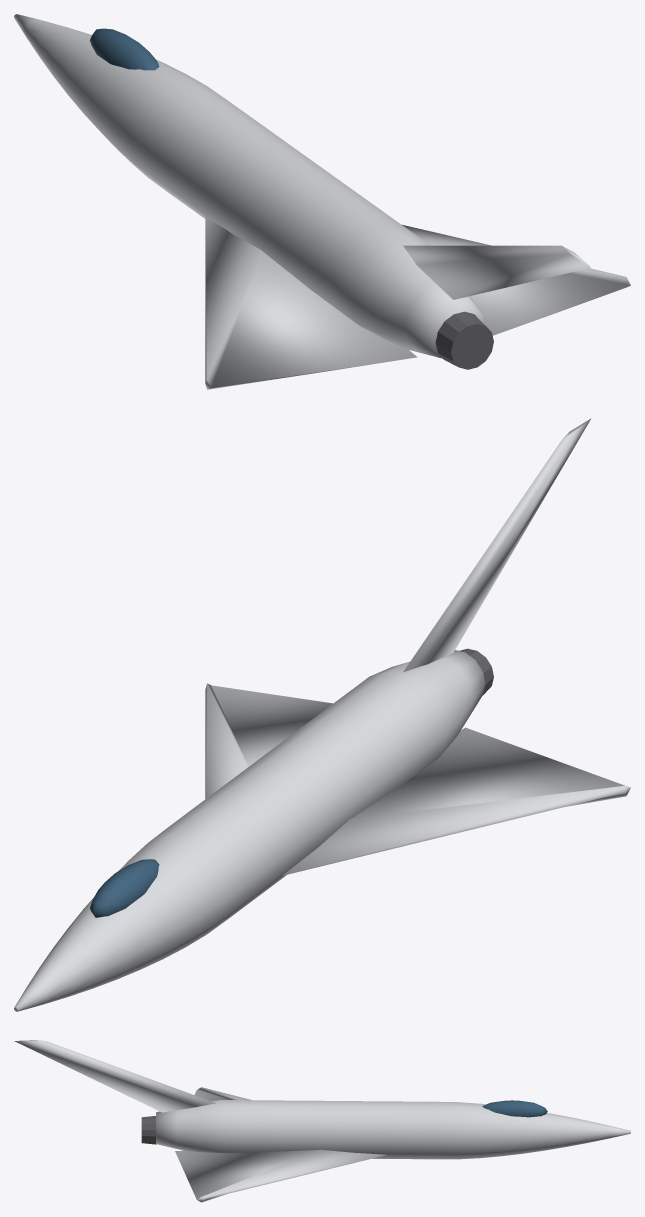
The model's file is mirage3.fbx.
3 views of the same model, one above another, from view 1: azimuth 30°, elevation 25°; view 2: azimuth 150°, elevation 25°; view 3: azimuth 270°, elevation 25° (orthographic). The views are drawn at different scales.
Visible parts, largest first — view 1: Body, Detail, Canopy; view 2: Body, Canopy; view 3: Body, Canopy, Detail.
Part boxes in pixels (<box>): Body: <box>14,14,630,389</box>; Detail: <box>435,311,493,369</box>; Canopy: <box>90,28,159,70</box>; Body: <box>14,418,630,1011</box>; Canopy: <box>90,859,159,917</box>; Body: <box>14,1040,630,1202</box>; Canopy: <box>482,1100,547,1117</box>; Detail: <box>141,1116,156,1144</box>.
Bounding box in the file's own units: 820 × 403 × 1948.
